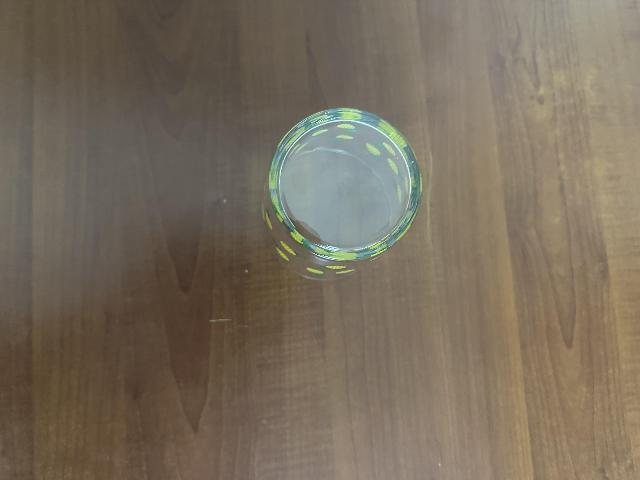Cam: (260, 106, 422, 279)
